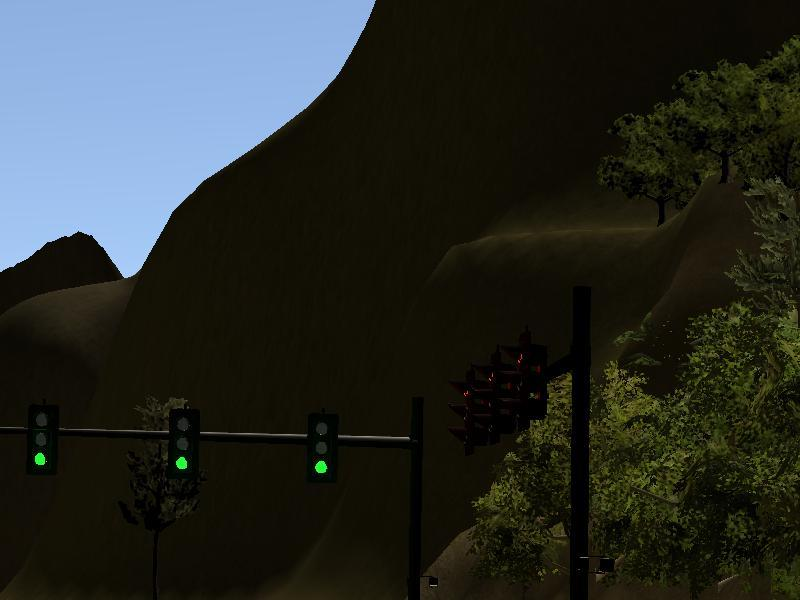Green: (308, 410, 335, 484), (169, 406, 194, 476), (30, 406, 54, 476)
